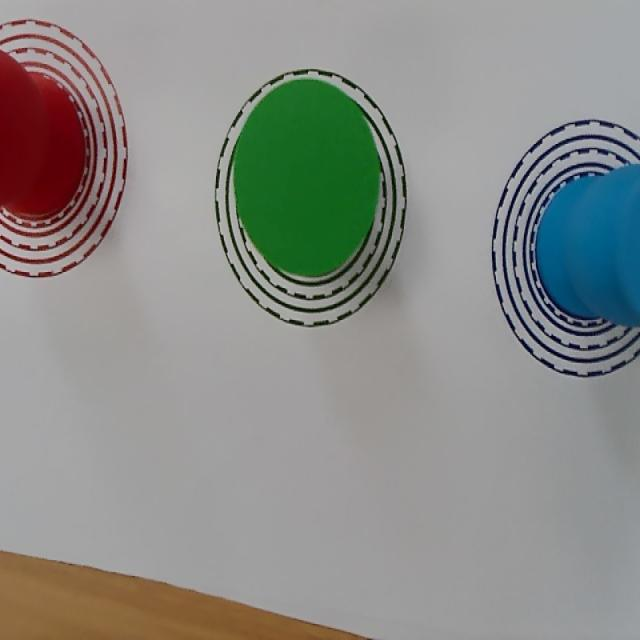g: (234, 80, 378, 276)
